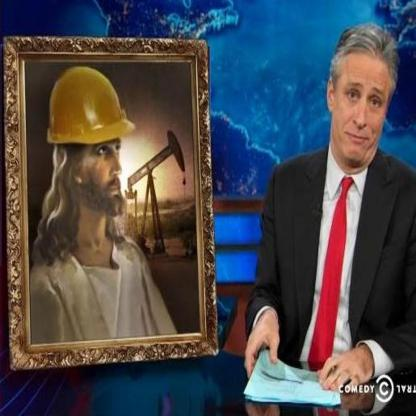face: (336, 59, 388, 162), (82, 121, 125, 203)
